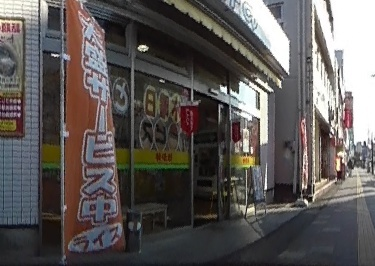person: (347, 158, 353, 176)
